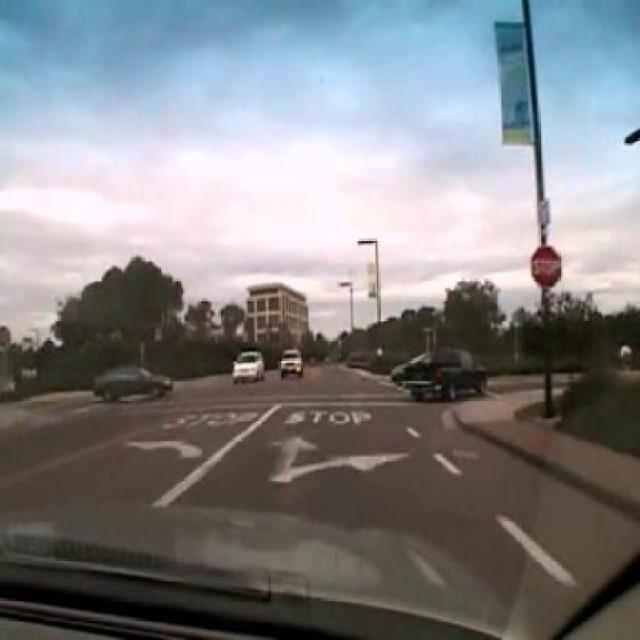Stop: (529, 244, 563, 290)
